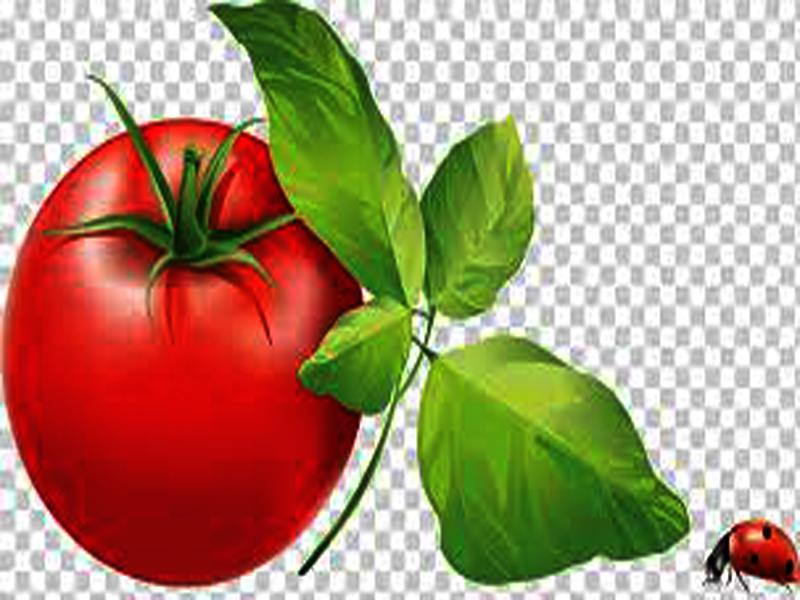Tomato: (3, 119, 362, 586)
